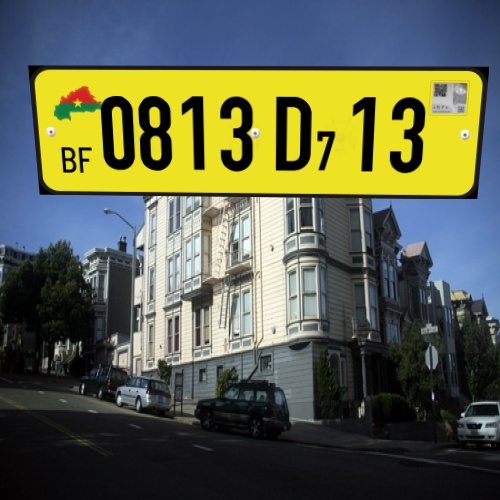plate: (21, 45, 494, 213)
